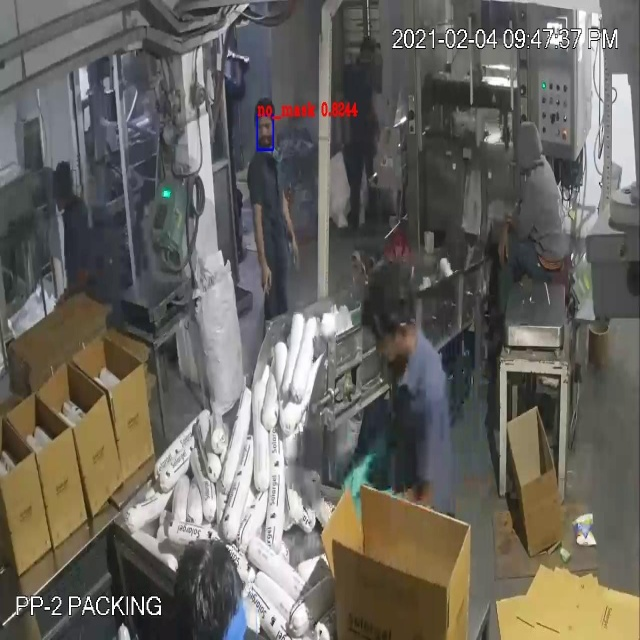Guantes: (339, 410, 392, 504)
Sin_guantes: (277, 184, 309, 283), (249, 195, 277, 305), (49, 269, 96, 307), (493, 220, 517, 270)
